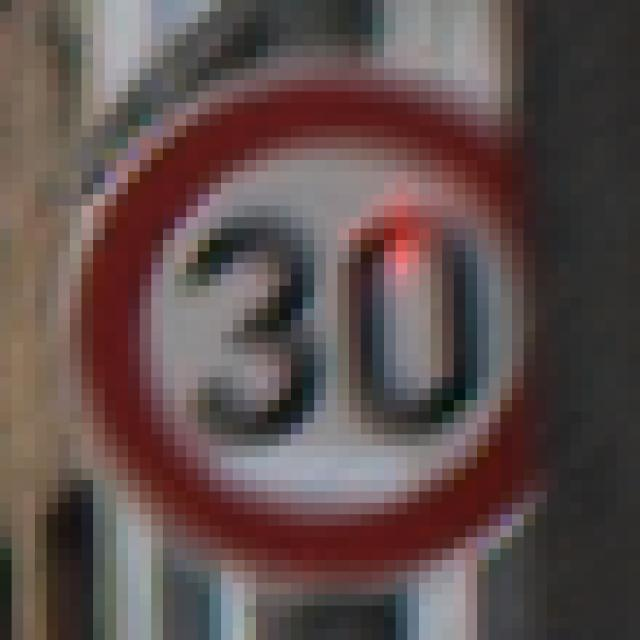Speed Limit -30-: (64, 51, 576, 578)
